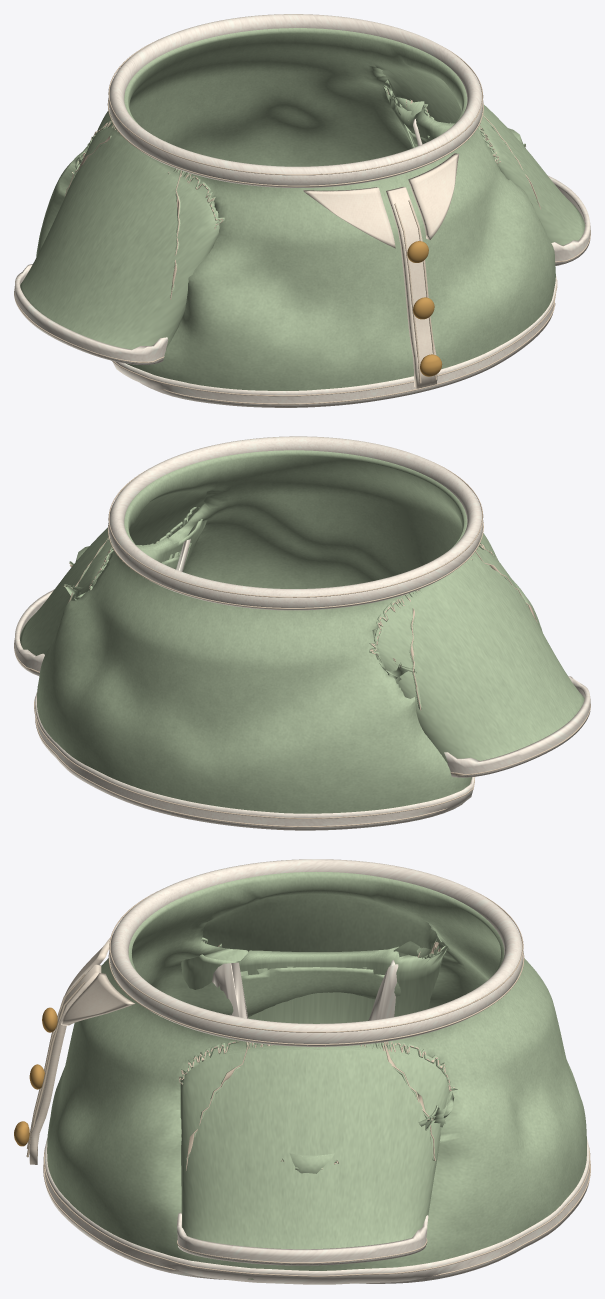
File: sewn_coat_cloud_chick.glb
3 renders of one model, top to bottom at view 1: azimuth 30°, elevation 25°; view 2: azimuth 150°, elevation 25°; view 3: azimuth 270°, elevation 25°, orthographic. The views are drawn at different scales.
Parts seen in each view (by area): view 1: Manga adaptada · Camiseta cosida continua, Dobladillo de algodón · Cuello, Dobladillo de algodón · Bajo, Panel · tapeta central cosida, Dobladillo de manga cosida -1, Panel · solapa -1, Panel · solapa 1, Dobladillo de manga cosida 1, Pespunte · Cuello.001, Pespunte · Bajo.001, Pespunte · Cuello, Pespunte · Bajo; view 2: Manga adaptada · Camiseta cosida continua, Dobladillo de algodón · Cuello, Dobladillo de algodón · Bajo, Dobladillo de manga cosida -1, Dobladillo de manga cosida 1, Pespunte · Cuello.001, Pespunte · Bajo.001, Pespunte · Bajo, Pespunte · Cuello; view 3: Manga adaptada · Camiseta cosida continua, Dobladillo de algodón · Cuello, Dobladillo de algodón · Bajo, Dobladillo de manga cosida 1, Dobladillo de manga cosida -1, Panel · tapeta central cosida, Panel · solapa 1, Pespunte · Bajo.001, Pespunte · Cuello.001, Unión textil de la sisa 1 4, Pespunte · Cuello, Pespunte · Bajo (+1 smaller).
Part boxes in pixels (<box>): Manga adaptada · Camiseta cosida continua: <box>20,28,585,390</box>; Dobladillo de algodón · Cuello: <box>108,14,483,187</box>; Dobladillo de algodón · Bajo: <box>113,276,556,407</box>; Panel · tapeta central cosida: <box>386,187,437,388</box>; Dobladillo de manga cosida -1: <box>14,264,168,364</box>; Panel · solapa -1: <box>303,187,395,248</box>; Panel · solapa 1: <box>408,153,458,239</box>; Dobladillo de manga cosida 1: <box>413,119,590,265</box>; Pespunte · Cuello.001: <box>108,39,483,175</box>; Pespunte · Bajo.001: <box>111,279,557,396</box>; Pespunte · Cuello: <box>107,100,483,186</box>; Pespunte · Bajo: <box>160,301,555,404</box>; Manga adaptada · Camiseta cosida continua: <box>20,450,584,813</box>; Dobladillo de algodón · Cuello: <box>108,436,483,610</box>; Dobladillo de algodón · Bajo: <box>35,692,475,830</box>; Dobladillo de manga cosida -1: <box>444,676,590,777</box>; Dobladillo de manga cosida 1: <box>14,539,190,675</box>; Pespunte · Cuello.001: <box>108,461,483,597</box>; Pespunte · Bajo.001: <box>34,696,474,818</box>; Pespunte · Bajo: <box>35,716,448,827</box>; Pespunte · Cuello: <box>107,522,483,608</box>; Manga adaptada · Camiseta cosida continua: <box>47,871,586,1279</box>; Dobladillo de algodón · Cuello: <box>109,859,523,1046</box>; Dobladillo de algodón · Bajo: <box>44,1137,589,1284</box>; Dobladillo de manga cosida 1: <box>177,1212,428,1265</box>; Dobladillo de manga cosida -1: <box>212,960,398,1020</box>; Panel · tapeta central cosida: <box>29,964,101,1164</box>; Panel · solapa 1: <box>61,973,134,1025</box>; Pespunte · Bajo.001: <box>43,1146,590,1276</box>; Pespunte · Cuello.001: <box>109,891,523,1032</box>; Unión textil de la sisa 1 4: <box>179,1041,457,1169</box>; Pespunte · Cuello: <box>108,953,524,1045</box>; Pespunte · Bajo: <box>43,1161,590,1276</box>.
Size of the model in its own units: 0.7221 by 0.2738 by 0.6221.
Materials: 9 (6 with a texture image).
